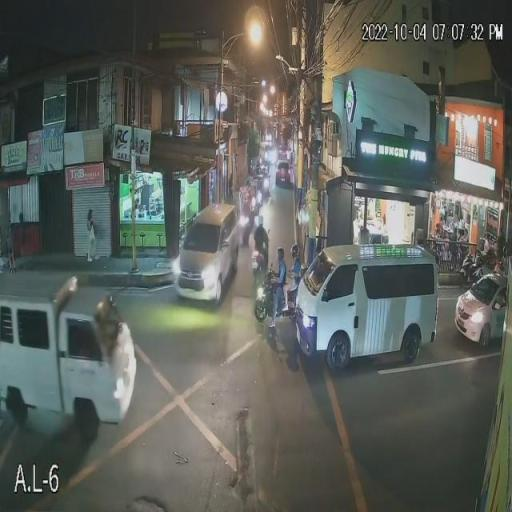helmet: (256, 214, 267, 230), (275, 248, 286, 262), (290, 246, 300, 258)
motorcycle: (251, 281, 294, 320), (252, 248, 268, 280)
rider: (273, 249, 286, 308), (290, 245, 301, 289), (254, 218, 266, 254)
